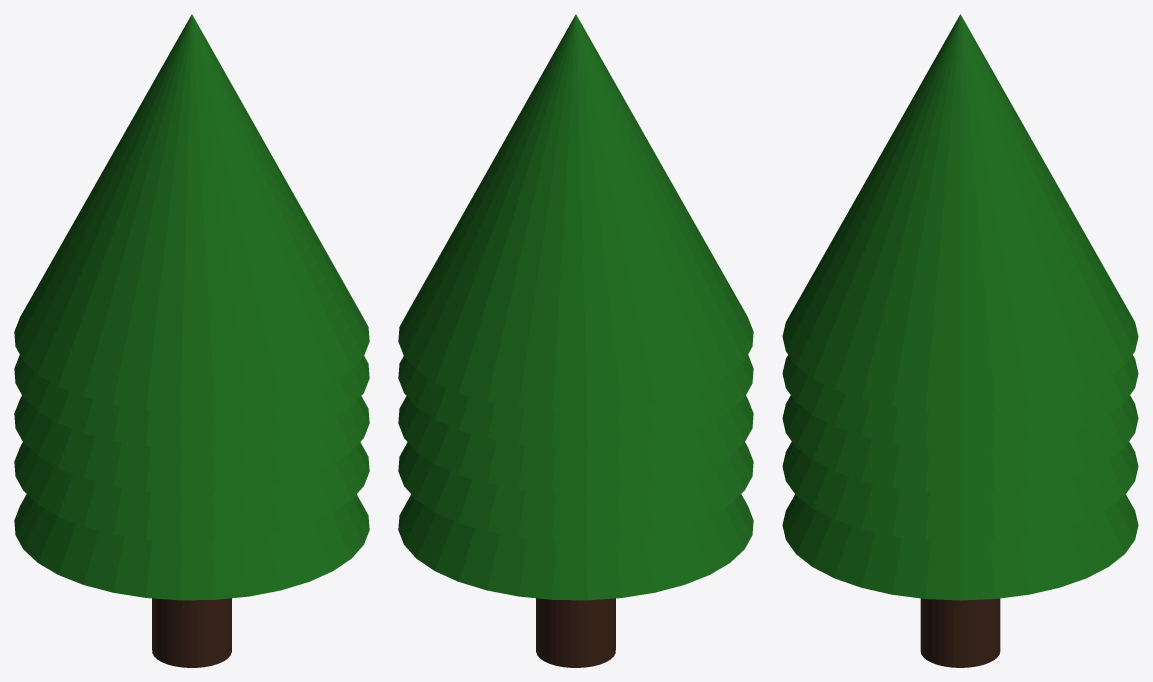
Rendered from DipshitTree_model.glb.
3 renders of one model, left to right at view 1: azimuth 30°, elevation 25°; view 2: azimuth 150°, elevation 25°; view 3: azimuth 270°, elevation 25°, orthographic.
Parts seen in each view (by area): view 1: Trunk; view 2: Trunk; view 3: Trunk.
Boxes of the visible parts, left/top/right/bottom form: Trunk: left=14, top=14, right=369, bottom=667; Trunk: left=398, top=14, right=753, bottom=667; Trunk: left=782, top=14, right=1138, bottom=667.
Bounding box in the file's own units: 8.92 × 17.61 × 8.92.
